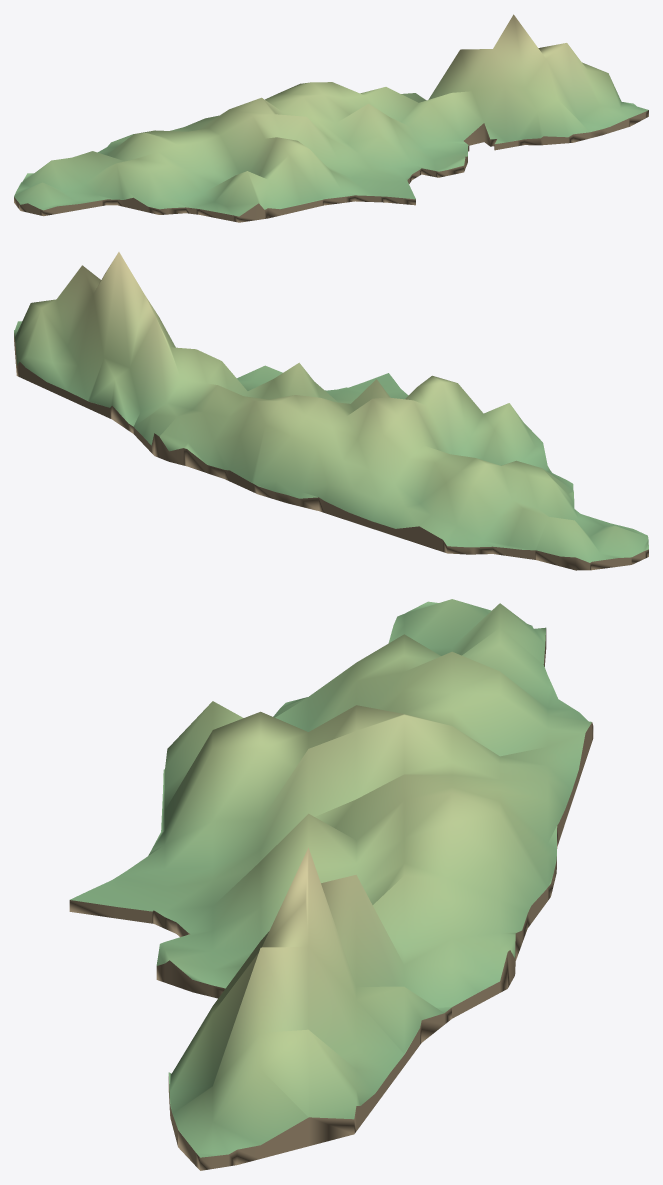
File: JAM.glb
The picture shows the model from 3 angles, top to bottom: view 1: azimuth 30°, elevation 25°; view 2: azimuth 150°, elevation 25°; view 3: azimuth 270°, elevation 25°; orthographic projection. The views are drawn at different scales.
Visible parts, largest first — view 1: JAM; view 2: JAM; view 3: JAM.
Boxes of the visible parts, <box> form: JAM: <box>14,14,648,222</box>; JAM: <box>14,252,648,570</box>; JAM: <box>69,599,593,1170</box>.
Bounding box in the file's own units: 1.84 × 0.338 × 0.7362.
